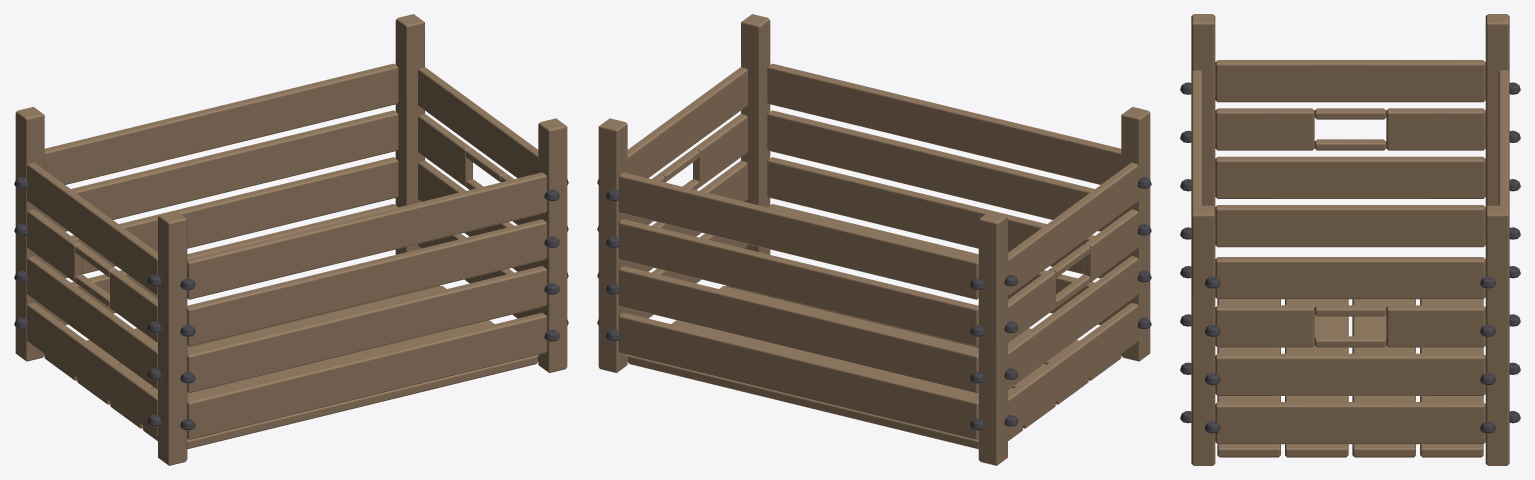
Rendered from crate.glb.
The picture shows the model from 3 angles, left to right: view 1: azimuth 30°, elevation 25°; view 2: azimuth 150°, elevation 25°; view 3: azimuth 270°, elevation 25°; orthographic projection. The views are drawn at different scales.
Parts seen in each view (by area): view 1: crate; view 2: crate; view 3: crate.
Boxes of the visible parts, x1,y1,x2,y2 form: crate: (14, 14, 568, 465); crate: (597, 14, 1151, 465); crate: (1180, 14, 1520, 465).
Size of the model in its own units: 0.6278 by 0.35 by 0.4278.
